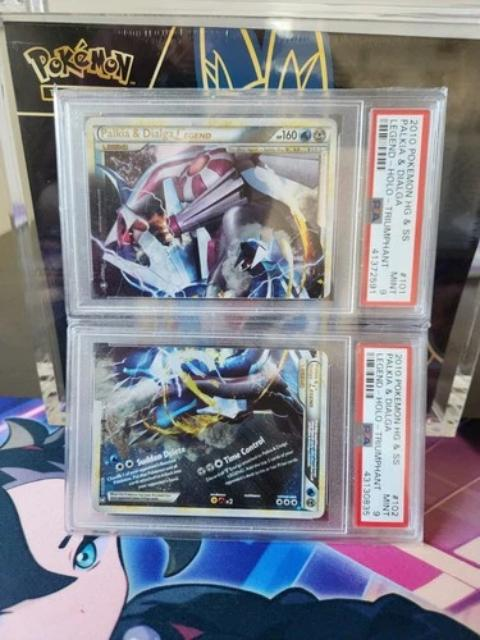Card: (81, 114, 340, 301), (89, 344, 331, 522)
Name: (96, 124, 217, 144), (306, 361, 322, 412)
